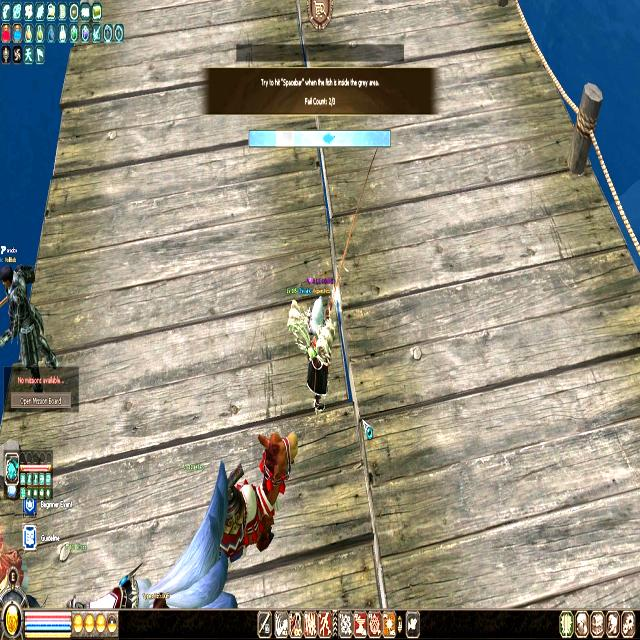fishes: (323, 131, 334, 145)
